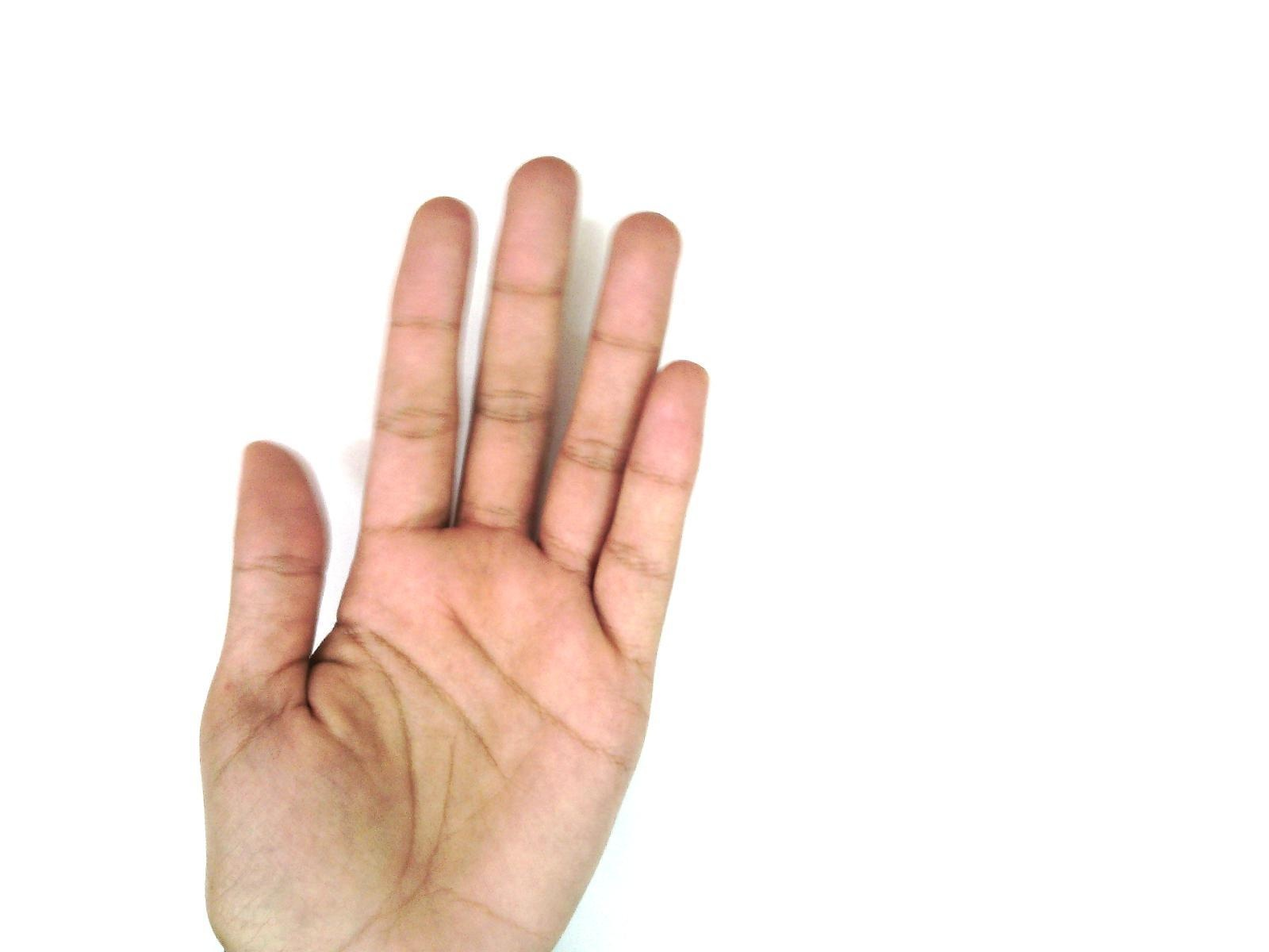open_palm: (196, 155, 713, 951)
